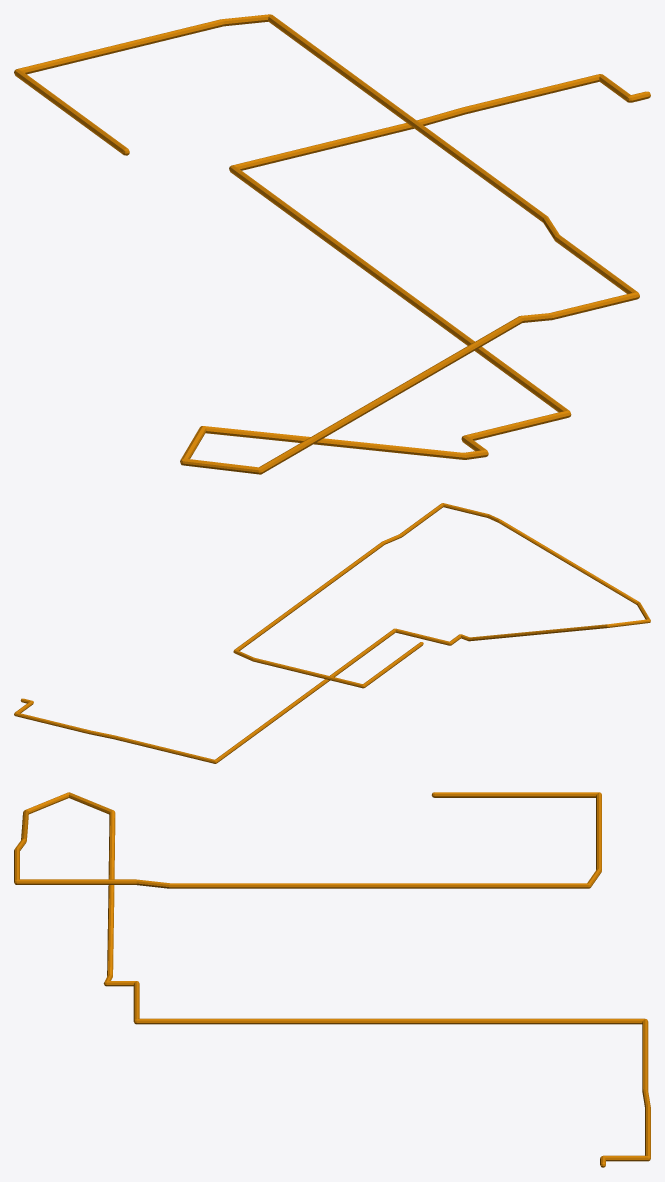
3 renders of one model, top to bottom at view 1: azimuth 30°, elevation 25°; view 2: azimuth 150°, elevation 25°; view 3: azimuth 270°, elevation 25°, orthographic. The views are drawn at different scales.
Bounding box in the file's own units: 2409 × 520 × 2129.
